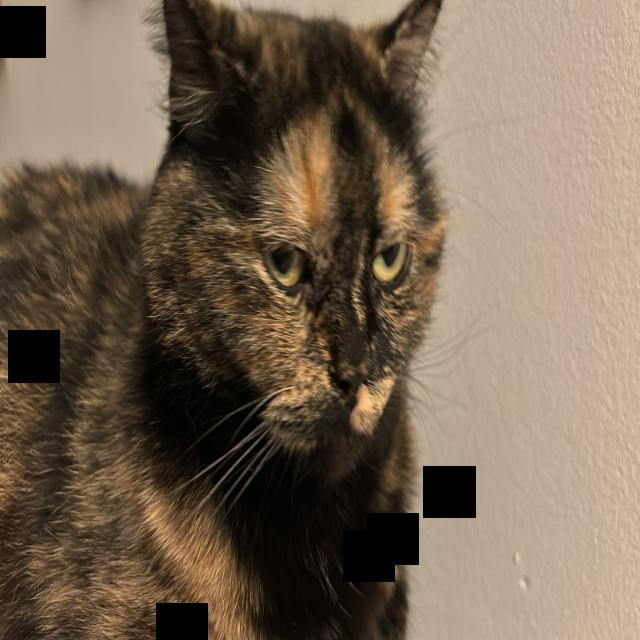authorized: (0, 1, 449, 638)
